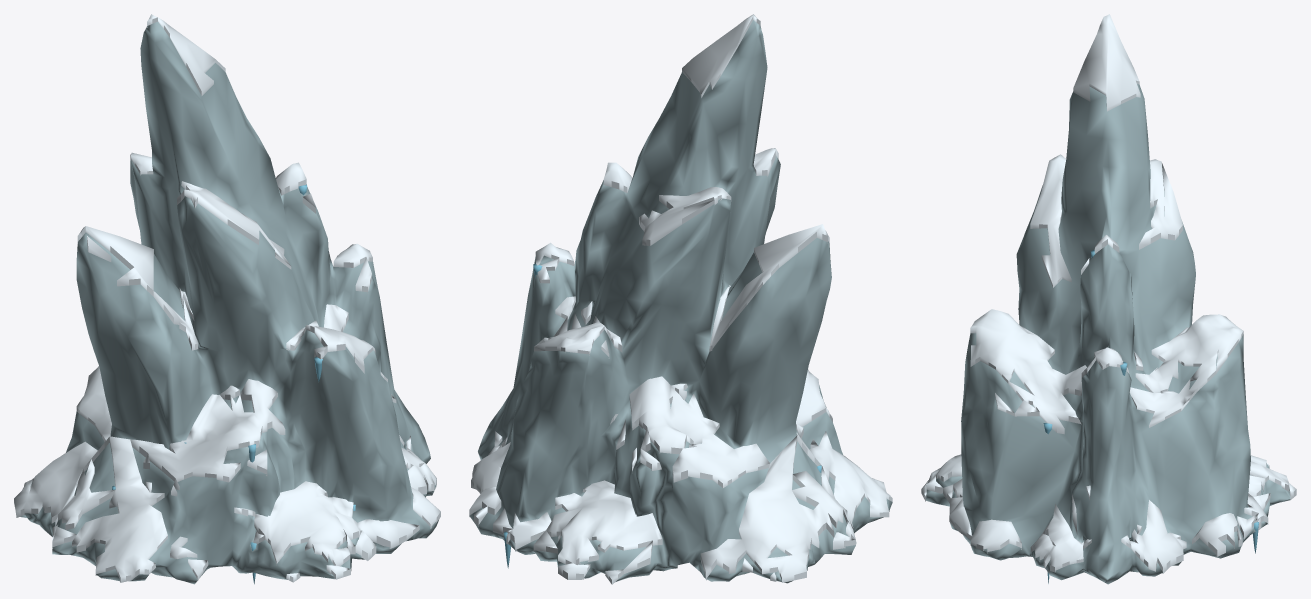
File: SecondRoom_IceSpire.fbx
The picture shows the model from 3 angles, left to right: view 1: azimuth 30°, elevation 25°; view 2: azimuth 150°, elevation 25°; view 3: azimuth 270°, elevation 25°; orthographic projection. The views are drawn at different scales.
Visible parts, largest first — view 1: SecondRoom_IceSpire_LOD0; view 2: SecondRoom_IceSpire_LOD0; view 3: SecondRoom_IceSpire_LOD0.
Part boxes in pixels (x1,y1,x2,y2): SecondRoom_IceSpire_LOD0: (14, 14, 440, 584); SecondRoom_IceSpire_LOD0: (469, 14, 892, 584); SecondRoom_IceSpire_LOD0: (921, 14, 1296, 584).
Size of what is drawn, in the model's own units: 4.4 by 6.03 by 4.29.
